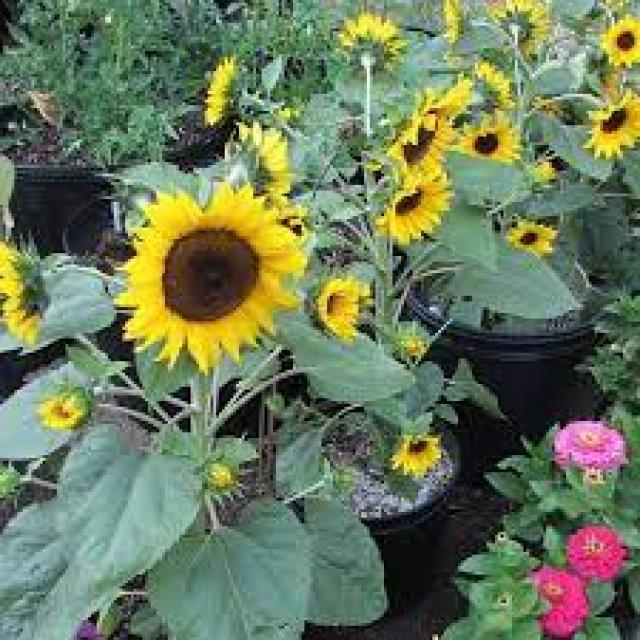sunflower: (113, 178, 310, 376), (385, 74, 473, 188), (1, 234, 55, 358), (377, 168, 458, 248), (237, 120, 306, 206), (334, 12, 402, 80), (484, 0, 555, 62), (586, 85, 640, 162), (313, 276, 371, 346), (259, 198, 316, 260), (206, 50, 249, 132), (458, 118, 522, 172), (388, 424, 446, 482), (34, 383, 99, 434), (476, 62, 520, 122), (598, 11, 640, 71), (504, 216, 562, 259), (438, 0, 466, 48), (534, 94, 563, 125), (399, 335, 431, 363), (529, 156, 560, 184)
